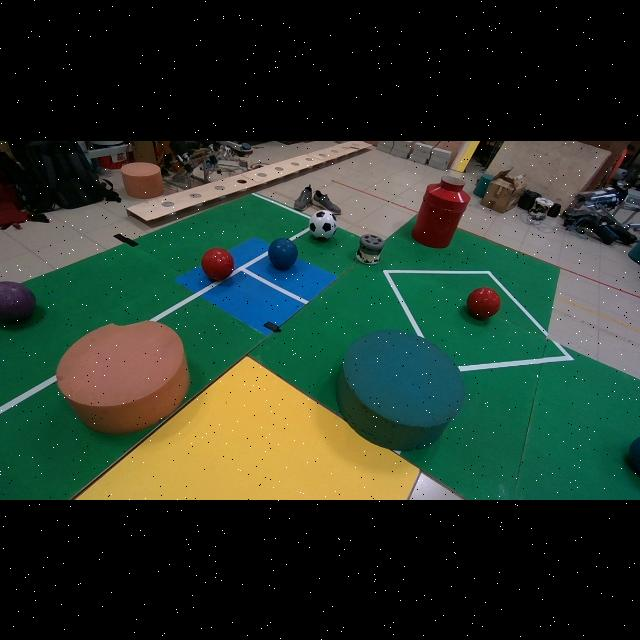B: (268, 238, 297, 269), (629, 436, 640, 472)
P: (0, 281, 36, 321)
R: (466, 286, 502, 319), (201, 248, 234, 279)
